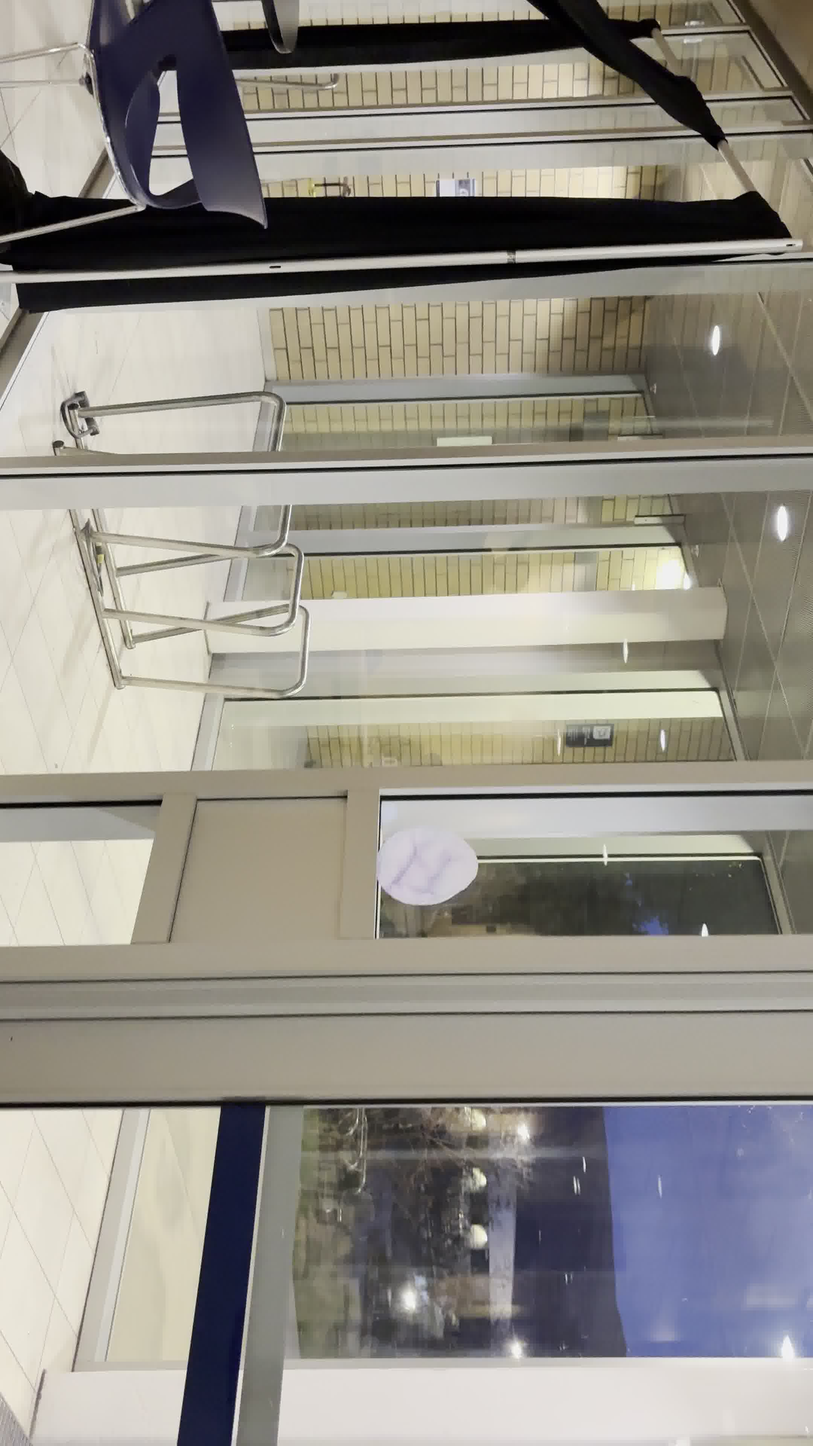Target: (375, 825, 481, 907)
